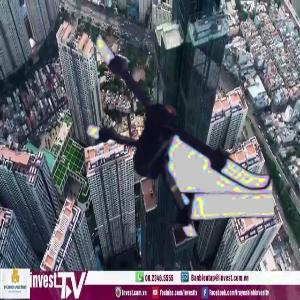drone: (55, 24, 271, 240)
